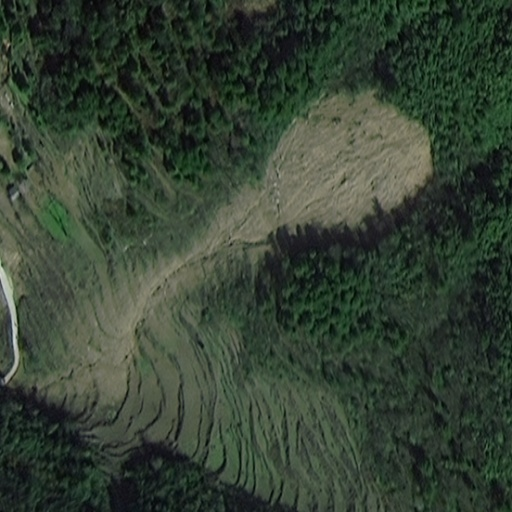landslide: (202, 85, 434, 250)
